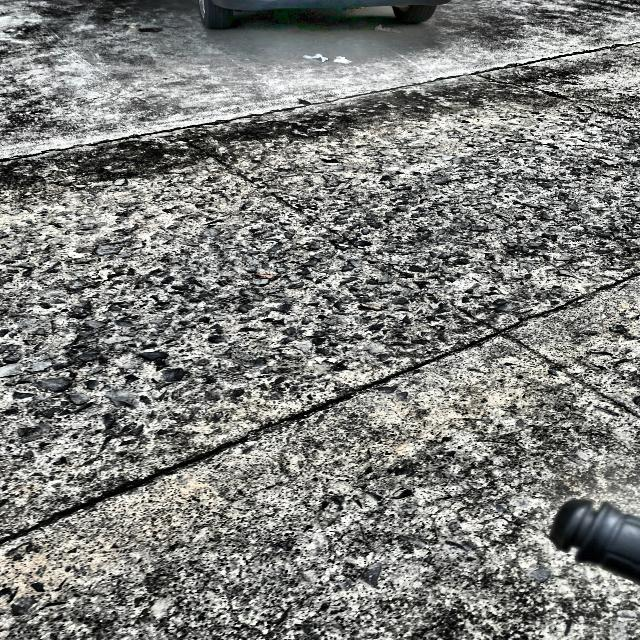major_scaling: (2, 126, 638, 510)
